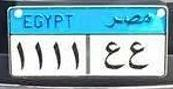1: (52, 41, 64, 70), (71, 41, 82, 70), (16, 41, 26, 69), (35, 41, 44, 70)
ain: (103, 40, 126, 70), (128, 40, 147, 70)
